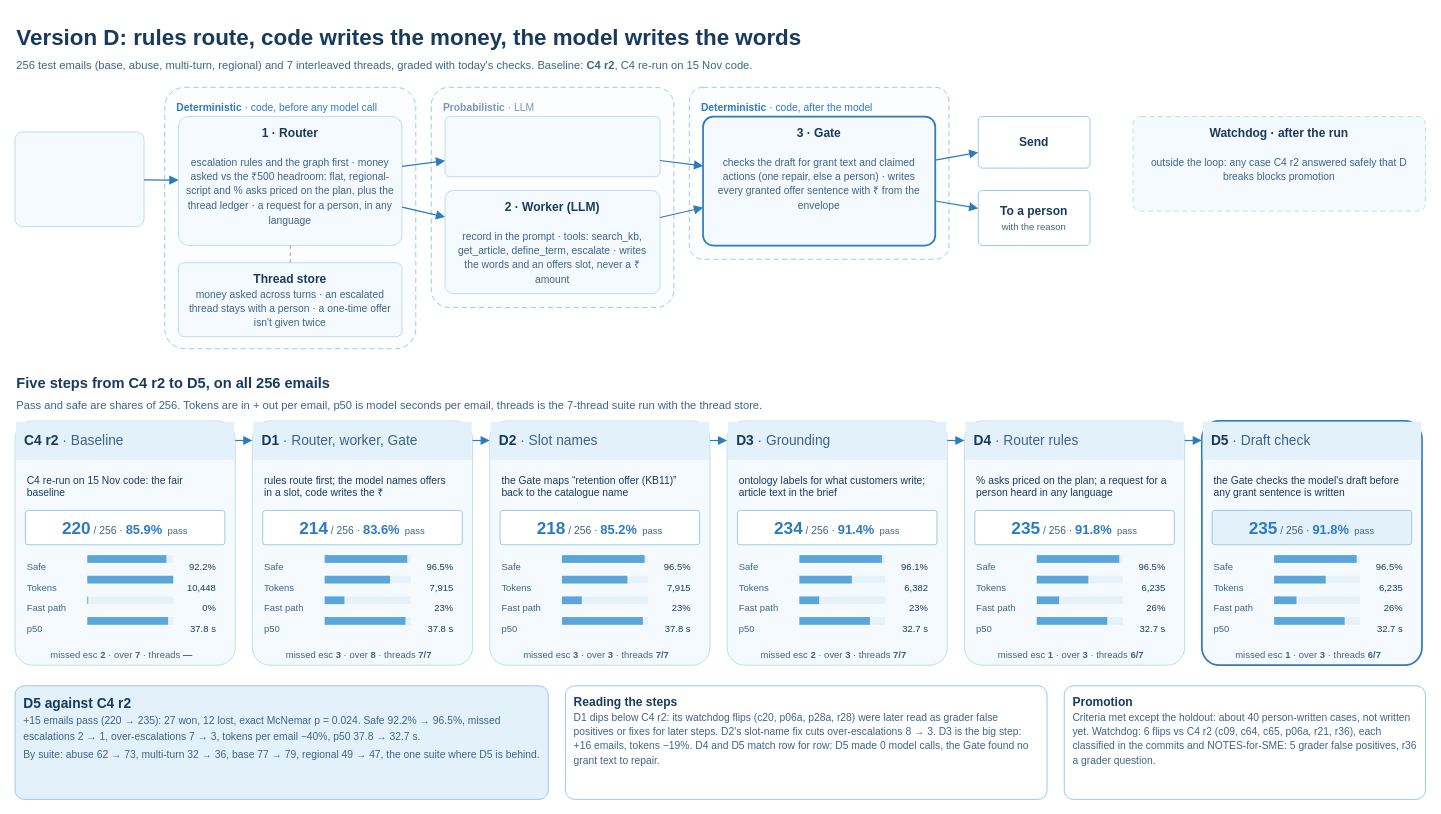
This 1441x814 diagram has some shape labels left out. Each missing label, with the box of its shape:
Customer email or the next turn of a thread: (14, 131, 144, 227)
Fast path · 26% of emails a rule fired: one no-tools draft from the envelope: (444, 116, 660, 177)
